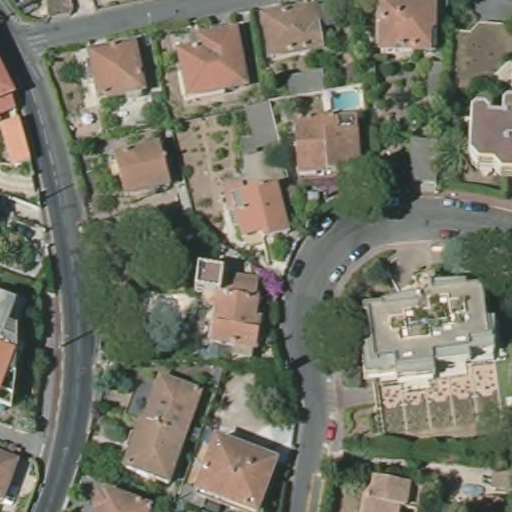pool: (329, 90, 365, 111)
